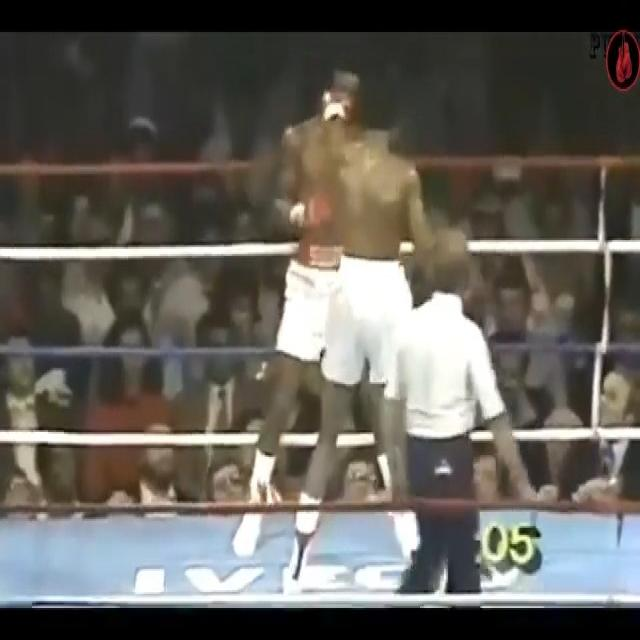Jab: (291, 66, 375, 250)
